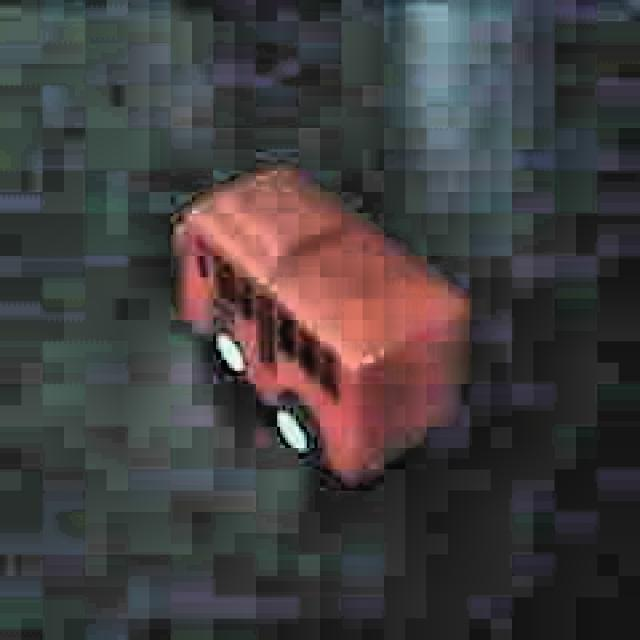bus: (160, 158, 477, 493)
